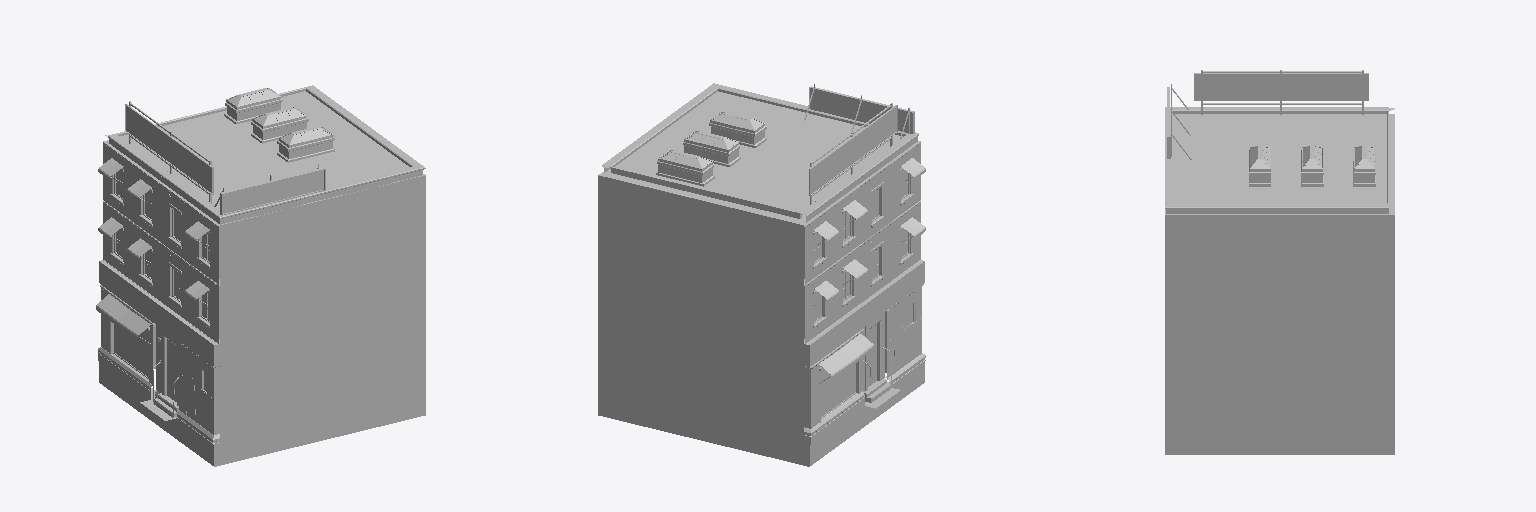
The model's file is buildingFiveB1.obj.
3 renders of one model, left to right at view 1: azimuth 30°, elevation 25°; view 2: azimuth 150°, elevation 25°; view 3: azimuth 270°, elevation 25°, orthographic.
Parts seen in each view (by area): view 1: buildingSmall front __Comp11__2, buildingSmall top __Comp11__5, buildingSmall facade __Comp11__3 __Subdiv10__1 downfloor __Subdi, buildingSmall facade __Comp11__3 __Subdiv10__3 Allfloors floors , buildingSmall facade __Comp11__3 __Subdiv10__3 Allfloors __Repea, buildingSmall facade __Comp11__3 __Subdiv1__0 downfloorwindow __, buildingSmall facade __Comp11__3 __Subdiv1__2 downfloorrest __Su, buildingSmall facade __Comp11__3 __Subdiv1__1 door __Subdiv10__2; view 2: buildingSmall sides __Comp11__0, buildingSmall top __Comp11__5, buildingSmall facade __Comp11__3 __Subdiv10__1 downfloor __Subdi, buildingSmall facade __Comp11__3 __Subdiv10__3 Allfloors floors , buildingSmall facade __Comp11__3 __Subdiv10__3 Allfloors __Repea, buildingSmall facade __Comp11__3 __Subdiv1__0 downfloorwindow __, buildingSmall facade __Comp11__3 __Subdiv1__2 downfloorrest __Su, buildingSmall facade __Comp11__3 __Subdiv1__1 door __Subdiv10__2; view 3: buildingSmall sides __Comp11__1, buildingSmall top __Comp11__5.
Part boxes in pixels (x1,y1,x2,y2): buildingSmall front __Comp11__2: (220, 175, 425, 465); buildingSmall top __Comp11__5: (105, 85, 425, 224); buildingSmall facade __Comp11__3 __Subdiv10__1 downfloor __Subdi: (96, 284, 236, 444); buildingSmall facade __Comp11__3 __Subdiv10__3 Allfloors floors : (98, 140, 223, 284); buildingSmall facade __Comp11__3 __Subdiv10__3 Allfloors __Repea: (98, 202, 219, 343); buildingSmall facade __Comp11__3 __Subdiv1__0 downfloorwindow __: (99, 260, 154, 420); buildingSmall facade __Comp11__3 __Subdiv1__2 downfloorrest __Su: (178, 318, 219, 466); buildingSmall facade __Comp11__3 __Subdiv1__1 door __Subdiv10__2: (152, 299, 181, 339); buildingSmall sides __Comp11__0: (598, 175, 803, 465); buildingSmall top __Comp11__5: (599, 83, 918, 223); buildingSmall facade __Comp11__3 __Subdiv10__1 downfloor __Subdi: (804, 284, 925, 444); buildingSmall facade __Comp11__3 __Subdiv10__3 Allfloors floors : (800, 141, 925, 284); buildingSmall facade __Comp11__3 __Subdiv10__3 Allfloors __Repea: (804, 201, 925, 343); buildingSmall facade __Comp11__3 __Subdiv1__0 downfloorwindow __: (804, 306, 862, 466); buildingSmall facade __Comp11__3 __Subdiv1__2 downfloorrest __Su: (884, 260, 924, 408); buildingSmall facade __Comp11__3 __Subdiv1__1 door __Subdiv10__2: (860, 287, 887, 327); buildingSmall sides __Comp11__1: (1165, 215, 1394, 454); buildingSmall top __Comp11__5: (1165, 70, 1394, 214).
Bounding box in the file's own units: 3351 × 4136 × 2988.